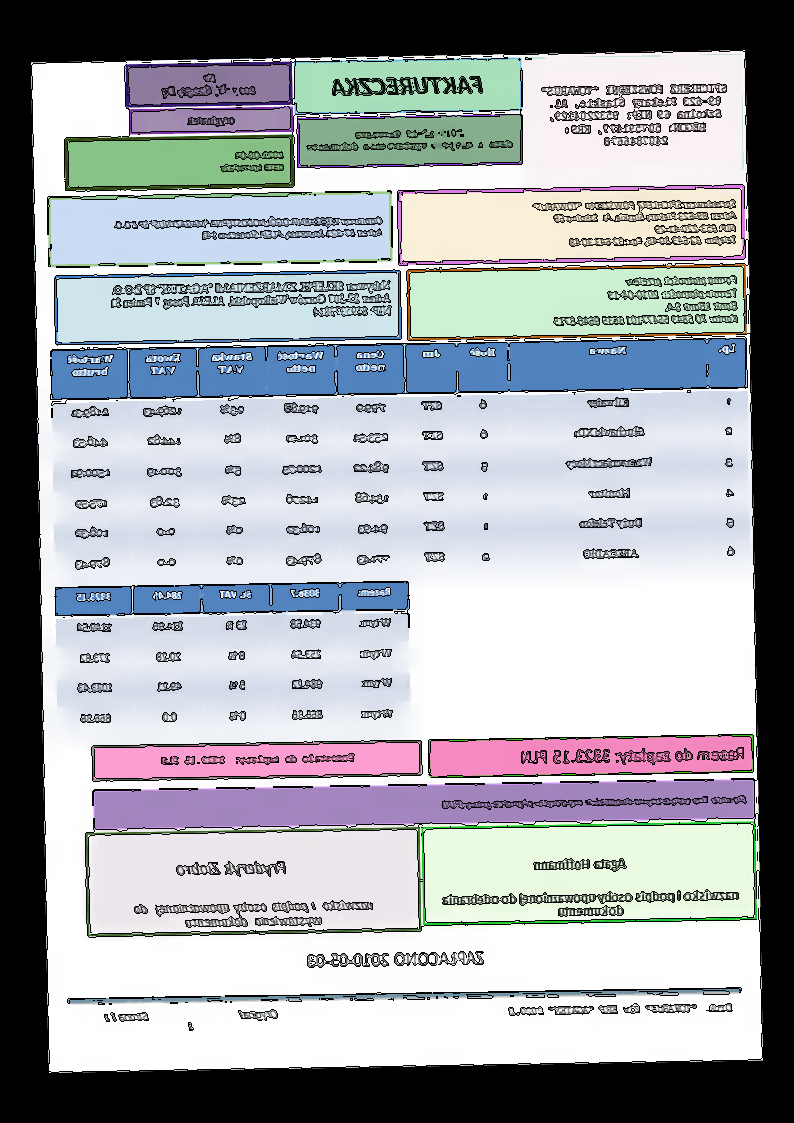Table: (51, 337, 751, 583), (54, 580, 413, 739)
TextBox: (541, 82, 730, 149), (107, 278, 393, 322), (529, 198, 739, 250), (551, 272, 740, 329), (441, 886, 740, 919), (111, 213, 386, 243), (133, 898, 375, 930), (305, 124, 516, 153), (441, 793, 749, 812), (520, 745, 746, 769), (101, 1009, 279, 1033), (305, 948, 486, 970), (331, 74, 484, 98), (508, 1002, 733, 1017), (160, 752, 356, 769), (158, 70, 258, 100), (174, 857, 289, 880), (219, 149, 286, 174), (533, 857, 627, 874), (186, 113, 236, 129)
